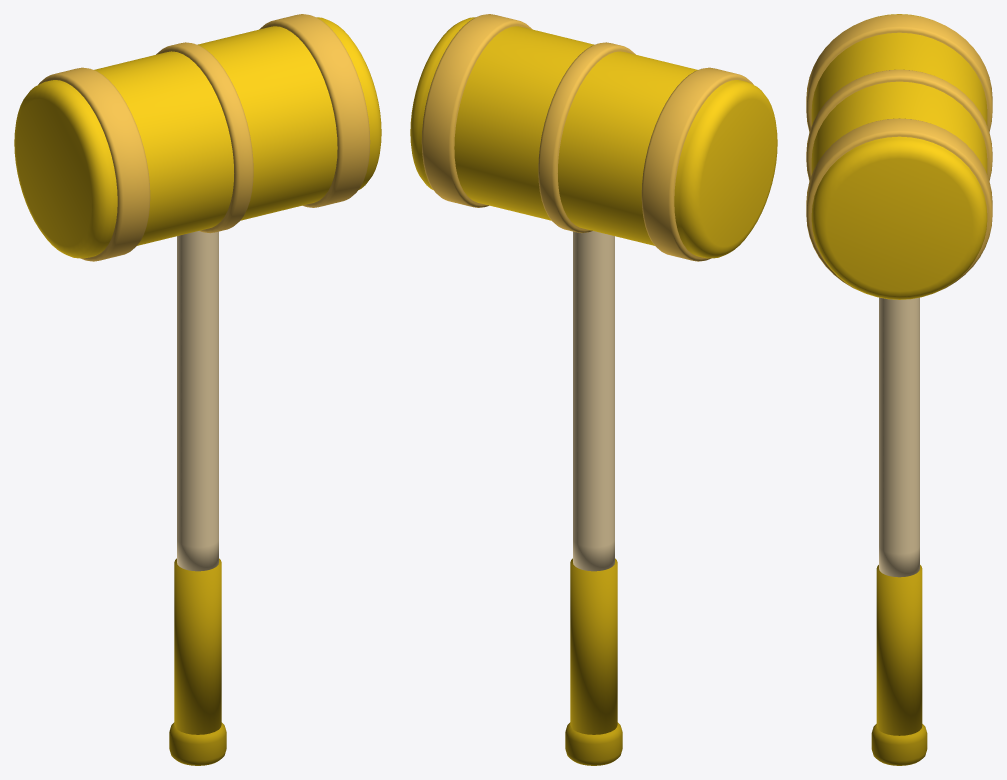
The model's file is hammer_akadaru.fbx.
3 views of the same model, side by side, from view 1: azimuth 30°, elevation 25°; view 2: azimuth 150°, elevation 25°; view 3: azimuth 270°, elevation 25° (orthographic). The views are drawn at different scales.
Parts seen in each view (by area): view 1: akadaru_hammer; view 2: akadaru_hammer; view 3: akadaru_hammer.
Part boxes in pixels (x1=…): akadaru_hammer: x1=14, y1=14, x2=381, y2=765; akadaru_hammer: x1=410, y1=14, x2=777, y2=765; akadaru_hammer: x1=806, y1=14, x2=992, y2=765.
Bounding box in the file's own units: 1.1 × 2.58 × 0.636.
